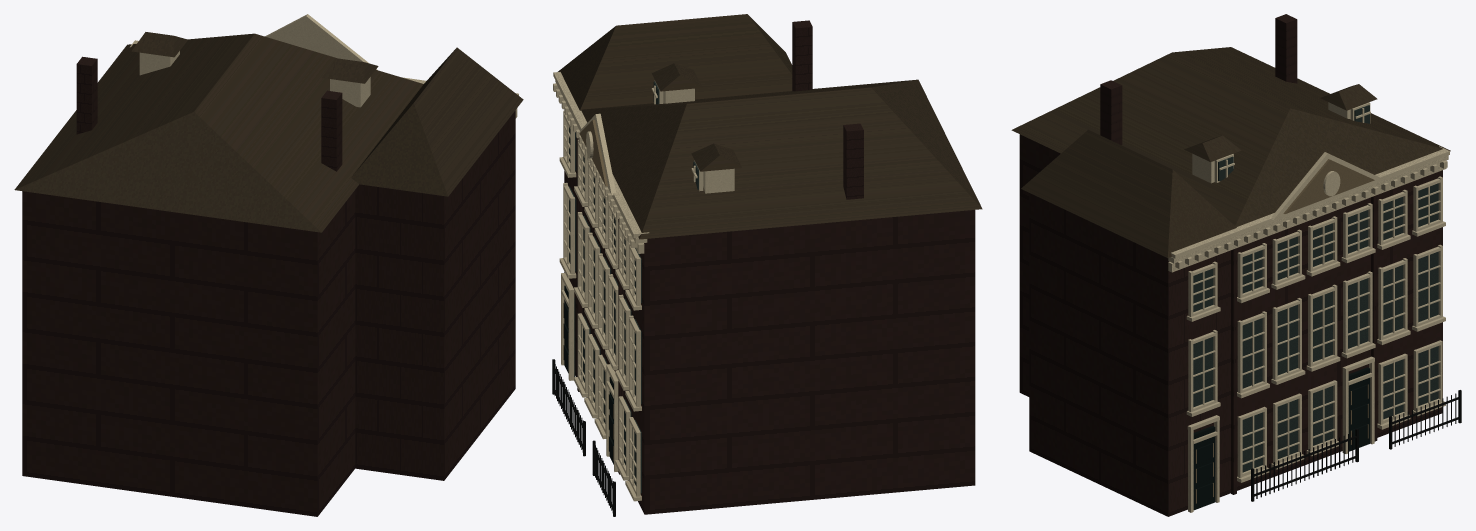
The picture shows the model from 3 angles, left to right: view 1: azimuth 30°, elevation 25°; view 2: azimuth 150°, elevation 25°; view 3: azimuth 270°, elevation 25°; orthographic projection. The views are drawn at different scales.
Parts seen in each view (by area): view 1: oppertse-kerk-pastorie-0, oppertse-kerk-pastorie-1, oppertse-kerk-pastorie-2; view 2: oppertse-kerk-pastorie-0, oppertse-kerk-pastorie-1, oppertse-kerk-pastorie-2, oppertse-kerk-pastorie-4, oppertse-kerk-pastorie-6, oppertse-kerk-pastorie-5, oppertse-kerk-pastorie-3; view 3: oppertse-kerk-pastorie-0, oppertse-kerk-pastorie-1, oppertse-kerk-pastorie-2, oppertse-kerk-pastorie-4, oppertse-kerk-pastorie-6, oppertse-kerk-pastorie-5, oppertse-kerk-pastorie-3.
Part boxes in pixels (x1,y1,x2,y2): oppertse-kerk-pastorie-0: (22, 56, 515, 516); oppertse-kerk-pastorie-1: (14, 32, 523, 232); oppertse-kerk-pastorie-2: (129, 14, 518, 118); oppertse-kerk-pastorie-0: (564, 20, 975, 514); oppertse-kerk-pastorie-1: (558, 14, 982, 239); oppertse-kerk-pastorie-2: (553, 72, 734, 501); oppertse-kerk-pastorie-4: (569, 81, 698, 493); oppertse-kerk-pastorie-6: (552, 359, 615, 516); oppertse-kerk-pastorie-5: (564, 285, 613, 464); oppertse-kerk-pastorie-3: (563, 120, 613, 460); oppertse-kerk-pastorie-0: (1019, 14, 1442, 516); oppertse-kerk-pastorie-1: (1011, 47, 1450, 257); oppertse-kerk-pastorie-2: (1168, 102, 1449, 512); oppertse-kerk-pastorie-4: (1193, 105, 1438, 472); oppertse-kerk-pastorie-6: (1251, 390, 1461, 501); oppertse-kerk-pastorie-5: (1193, 367, 1370, 510); oppertse-kerk-pastorie-3: (1195, 159, 1374, 503).
Bounding box in the file's own units: 21.07 × 15.65 × 18.99.
7 materials, 7 textured.
